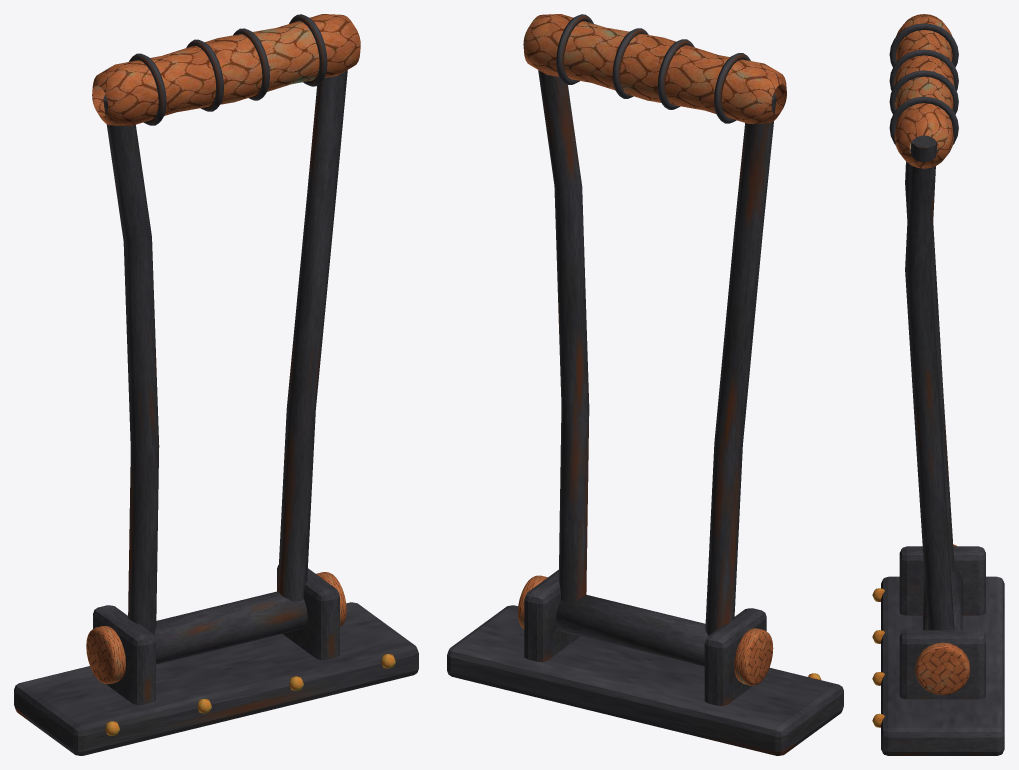
File: lever.glb
3 views of the same model, side by side, from view 1: azimuth 30°, elevation 25°; view 2: azimuth 150°, elevation 25°; view 3: azimuth 270°, elevation 25° (orthographic). The views are drawn at different scales.
Visible parts, largest first — view 1: lever_base_plate, lever_arm_R, lever_arm_L, lever_grip, lever_pivot_axle, lever_bracket_L, lever_bracket_R, lever_grip_wraps, lever_pivot_cap_L, lever_base_rivets; view 2: lever_base_plate, lever_arm_L, lever_arm_R, lever_grip, lever_pivot_axle, lever_bracket_L, lever_bracket_R, lever_grip_wraps, lever_pivot_cap_L; view 3: lever_arm_R, lever_base_plate, lever_grip, lever_bracket_R, lever_bracket_L, lever_grip_wraps, lever_pivot_cap_R, lever_arm_L, lever_pivot_axle, lever_base_rivets.
Boxes of the visible parts, x1=… form: lever_base_plate: x1=14, y1=602, x2=418, y2=755; lever_arm_R: x1=277, y1=70, x2=347, y2=601; lever_arm_L: x1=103, y1=94, x2=159, y2=635; lever_grip: x1=92, y1=14, x2=360, y2=126; lever_pivot_axle: x1=154, y1=591, x2=307, y2=664; lever_bracket_L: x1=93, y1=605, x2=155, y2=704; lever_bracket_R: x1=277, y1=565, x2=339, y2=660; lever_grip_wraps: x1=129, y1=14, x2=327, y2=125; lever_pivot_cap_L: x1=86, y1=626, x2=125, y2=684; lever_base_rivets: x1=105, y1=654, x2=395, y2=735; lever_base_plate: x1=447, y1=605, x2=843, y2=755; lever_arm_L: x1=705, y1=93, x2=776, y2=635; lever_arm_R: x1=538, y1=70, x2=589, y2=603; lever_grip: x1=523, y1=14, x2=786, y2=123; lever_pivot_axle: x1=556, y1=594, x2=708, y2=666; lever_bracket_L: x1=704, y1=608, x2=766, y2=705; lever_bracket_R: x1=524, y1=569, x2=580, y2=661; lever_grip_wraps: x1=556, y1=14, x2=750, y2=123; lever_pivot_cap_L: x1=734, y1=628, x2=773, y2=685; lever_arm_R: x1=905, y1=135, x2=954, y2=630; lever_base_plate: x1=881, y1=576, x2=1004, y2=755; lever_grip: x1=894, y1=14, x2=954, y2=168; lever_bracket_R: x1=899, y1=630, x2=985, y2=699; lever_bracket_L: x1=899, y1=546, x2=985, y2=615; lever_grip_wraps: x1=889, y1=23, x2=958, y2=151; lever_pivot_cap_R: x1=915, y1=642, x2=969, y2=695; lever_arm_L: x1=905, y1=161, x2=954, y2=571; lever_pivot_axle: x1=923, y1=568, x2=962, y2=630; lever_base_rivets: x1=872, y1=588, x2=884, y2=727.
Size of the model in its own units: 0.3 by 0.553 by 0.107.
3 materials, 3 textured.
